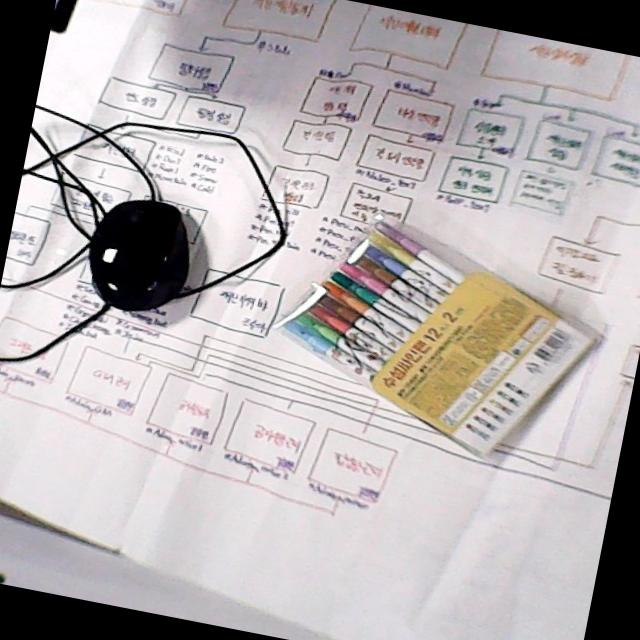mouse: (84, 193, 196, 316)
signpen: (266, 203, 610, 469)
